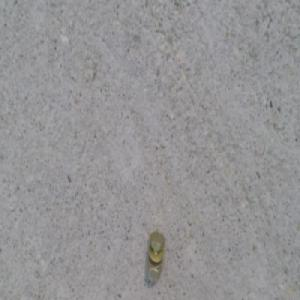BoltNutSet: (146, 232, 164, 280)
